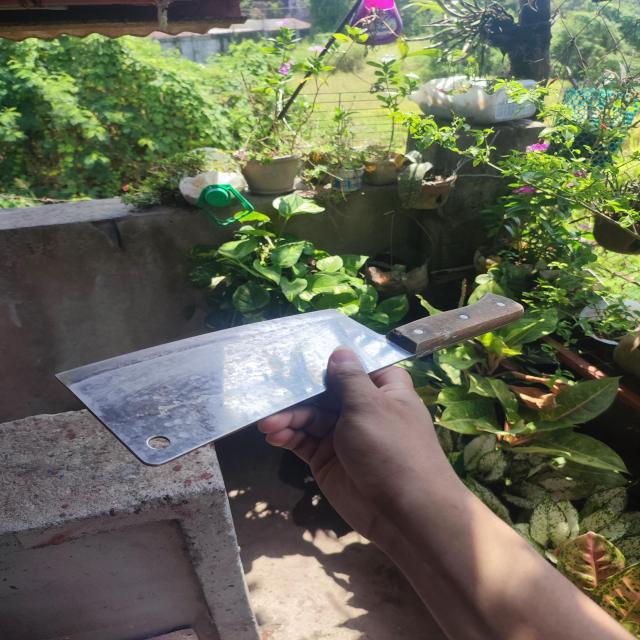knife: (55, 292, 525, 467)
